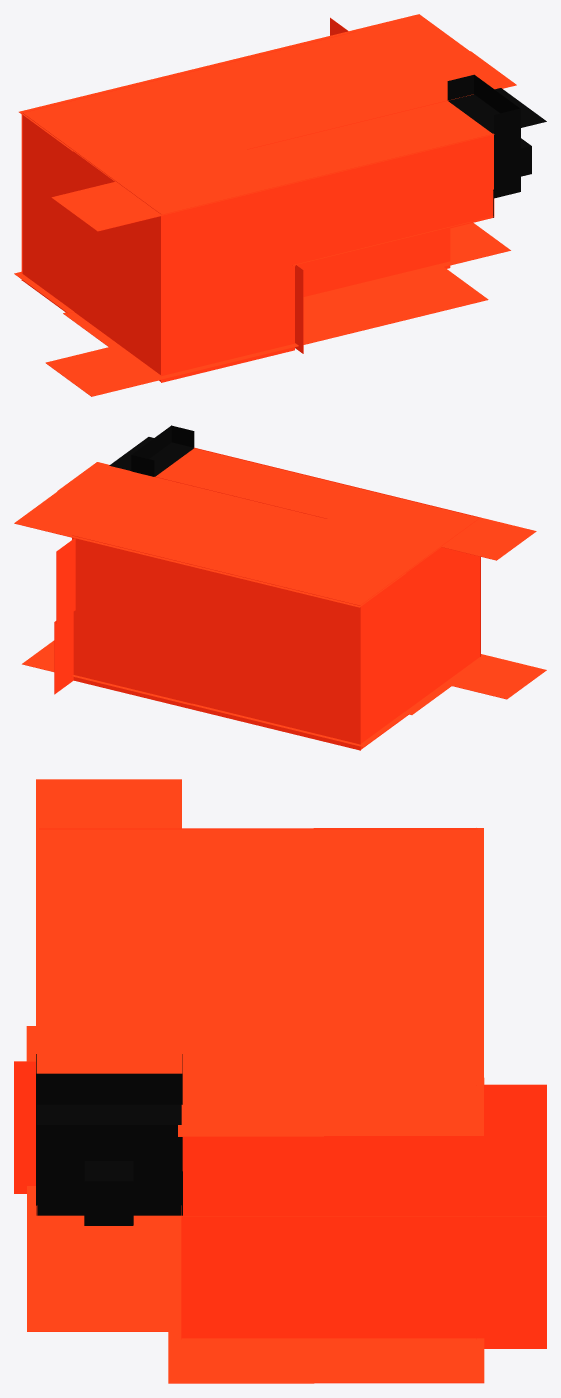
File: ExportLevel.fbx
3 views of the same model, one above another, from view 1: azimuth 30°, elevation 25°; view 2: azimuth 150°, elevation 25°; view 3: azimuth 270°, elevation 25° (orthographic). The views are drawn at different scales.
Parts seen in each view (by area): view 1: Cube__1__1, Cube__4__1, Cube__6__1, Cube__7__1, Cube__20__1, Cube__18__1, Cube__3__1, Cube__17__1, Cube__16__1, Cube__5__1, Cube__19__1, Cube__21__1 (+9 smaller); view 2: Cube__12__1, Cube__11__1, Cube__9__1, Cube__10__1, Cube__7__1, Cube__20__1, Cube__5__1, Cube__18__1, Cube__17__1, Cube__16__1, Cube__3__1, Cube__19__1 (+7 smaller); view 3: Cube__13__1, Cube__14__1, Cube__18__1, Cube__20__1, Cube__19__1, Cube__16__1, Cube__17__1, Cube__3__1, Cube__21__1, Cube__24__1, Cube__25__1, Cube__8__1 (+14 smaller).
Boxes of the visible parts, x1,y1,x2,y2 form: Cube__1__1: (293, 133, 494, 266); Cube__4__1: (161, 182, 294, 298); Cube__6__1: (161, 266, 294, 382); Cube__7__1: (22, 197, 160, 381); Cube__20__1: (219, 14, 472, 102); Cube__18__1: (19, 63, 269, 151); Cube__3__1: (248, 101, 494, 183); Cube__17__1: (70, 100, 316, 182); Cube__16__1: (51, 150, 293, 231); Cube__5__1: (22, 113, 161, 297); Cube__19__1: (274, 51, 516, 132); Cube__21__1: (285, 267, 488, 348); Cube__12__1: (73, 608, 245, 722); Cube__11__1: (72, 535, 245, 649); Cube__9__1: (245, 577, 360, 677); Cube__10__1: (245, 650, 360, 750); Cube__7__1: (359, 590, 479, 750); Cube__20__1: (14, 489, 231, 565); Cube__5__1: (359, 518, 479, 677); Cube__18__1: (187, 533, 405, 607); Cube__17__1: (230, 504, 442, 574); Cube__16__1: (329, 489, 536, 560); Cube__3__1: (156, 448, 362, 518); Cube__19__1: (57, 462, 267, 530); Cube__13__1: (181, 1216, 546, 1348); Cube__14__1: (182, 1084, 546, 1216); Cube__18__1: (313, 828, 483, 981); Cube__20__1: (313, 981, 483, 1136); Cube__19__1: (178, 982, 323, 1136); Cube__16__1: (36, 779, 181, 930); Cube__17__1: (178, 829, 323, 982); Cube__3__1: (36, 930, 181, 1073); Cube__21__1: (27, 1186, 172, 1331); Cube__24__1: (168, 1229, 314, 1383); Cube__25__1: (314, 1338, 484, 1383); Cube__8__1: (14, 1061, 35, 1193).
Bounding box in the file's own units: 35370 × 13362 × 21880.
